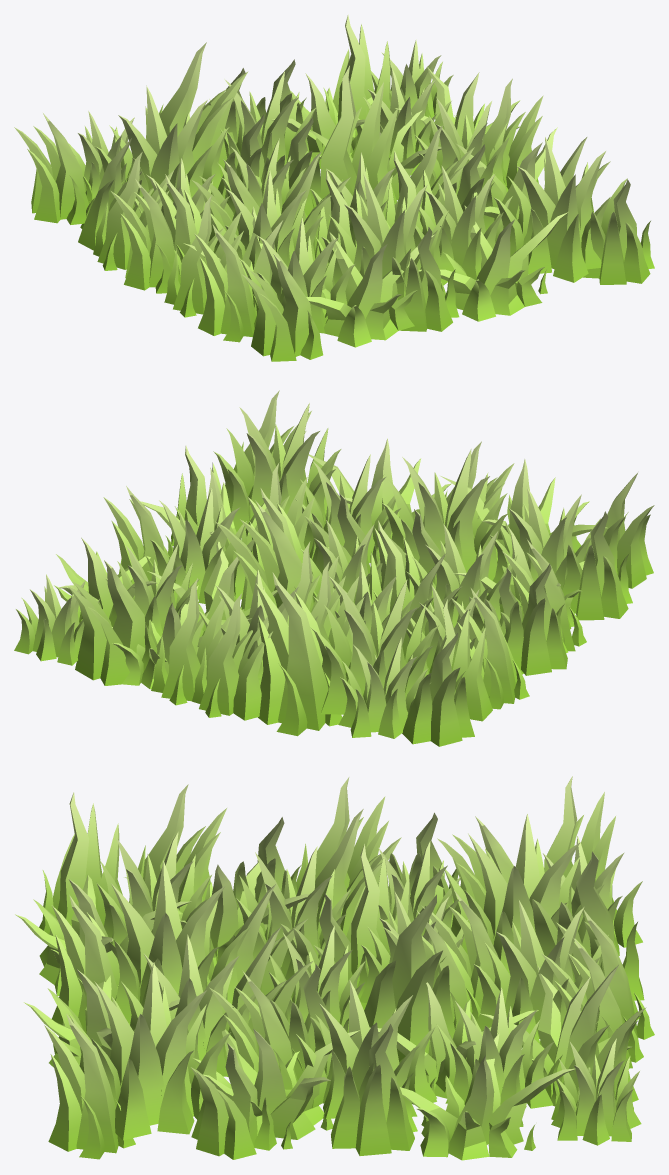
Rendered from yesil.fbx.
The picture shows the model from 3 angles, top to bottom: view 1: azimuth 30°, elevation 25°; view 2: azimuth 150°, elevation 25°; view 3: azimuth 270°, elevation 25°; orthographic projection. The views are drawn at different scales.
Parts seen in each view (by area): view 1: yesil; view 2: yesil; view 3: yesil.
Part boxes in pixels (x1,y1,x2,y2): yesil: (14,14,654,361); yesil: (14,390,654,746); yesil: (15,776,654,1160).
Size of the model in its own units: 216 by 63.12 by 217.
